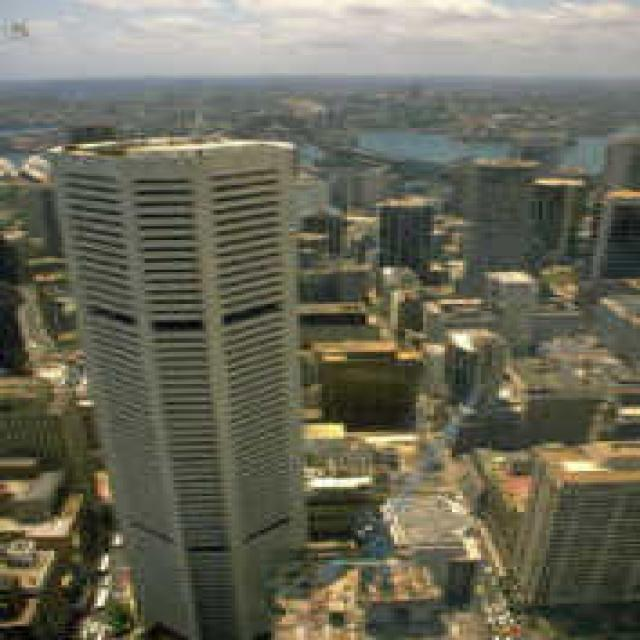building: (54, 109, 310, 640)
